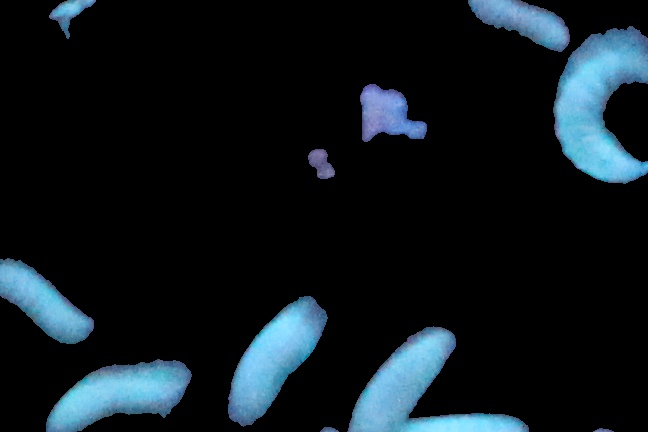larvae: (536, 21, 648, 197), (231, 300, 326, 432), (351, 316, 457, 432), (40, 359, 194, 432), (1, 264, 88, 345), (469, 1, 567, 53), (409, 404, 534, 432)
